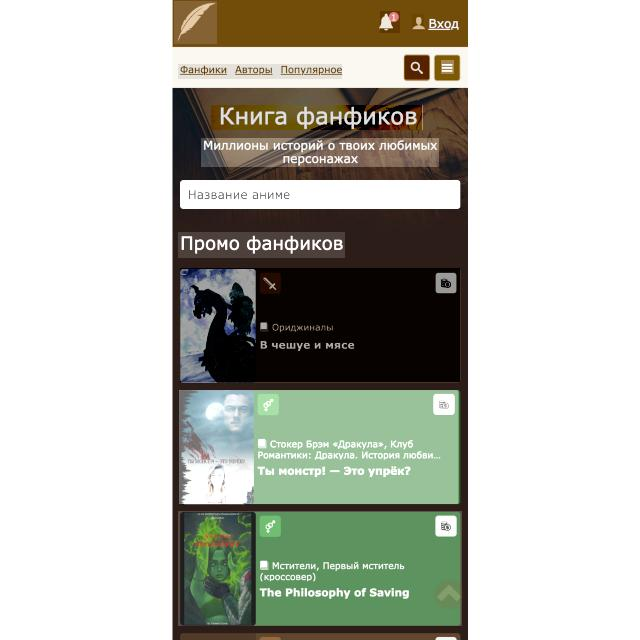CheckBox: (212, 105, 424, 130), (404, 54, 430, 79)
CheckedTextView: (180, 180, 460, 209)
Input field: (201, 138, 439, 167)
Spinner: (178, 511, 462, 626), (180, 268, 460, 382), (180, 390, 460, 504)
bag: (172, 0, 470, 88)
breadcrumbs: (178, 232, 345, 258)
carousel: (380, 11, 400, 33), (412, 14, 424, 31)
date picker: (174, 1, 217, 44)
decoration: (178, 64, 342, 79), (441, 60, 454, 74)
footer: (187, 188, 290, 201)
